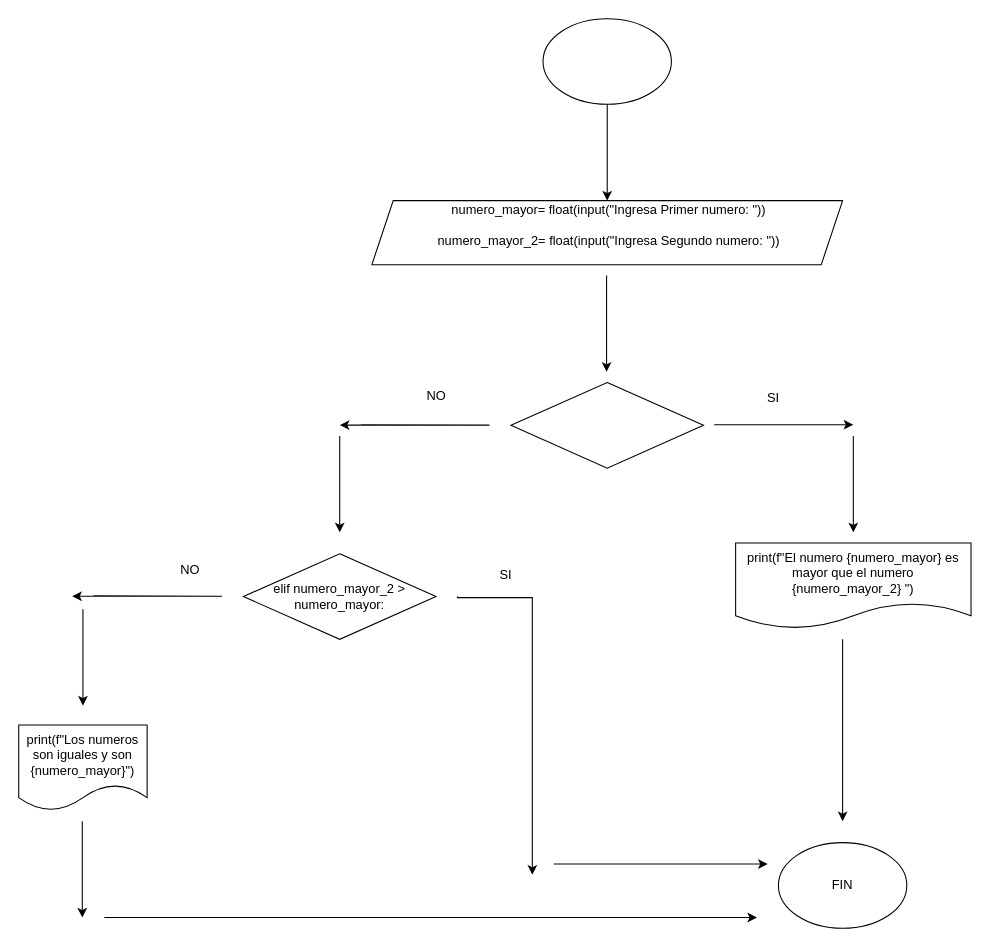
This 990x947 diagram has some shape labels left out. The centre of each missing label's shape, as x and y in pixels:
if numero_mayor > numero_mayor_2:: (607,424)
INICIO: (606,61)
